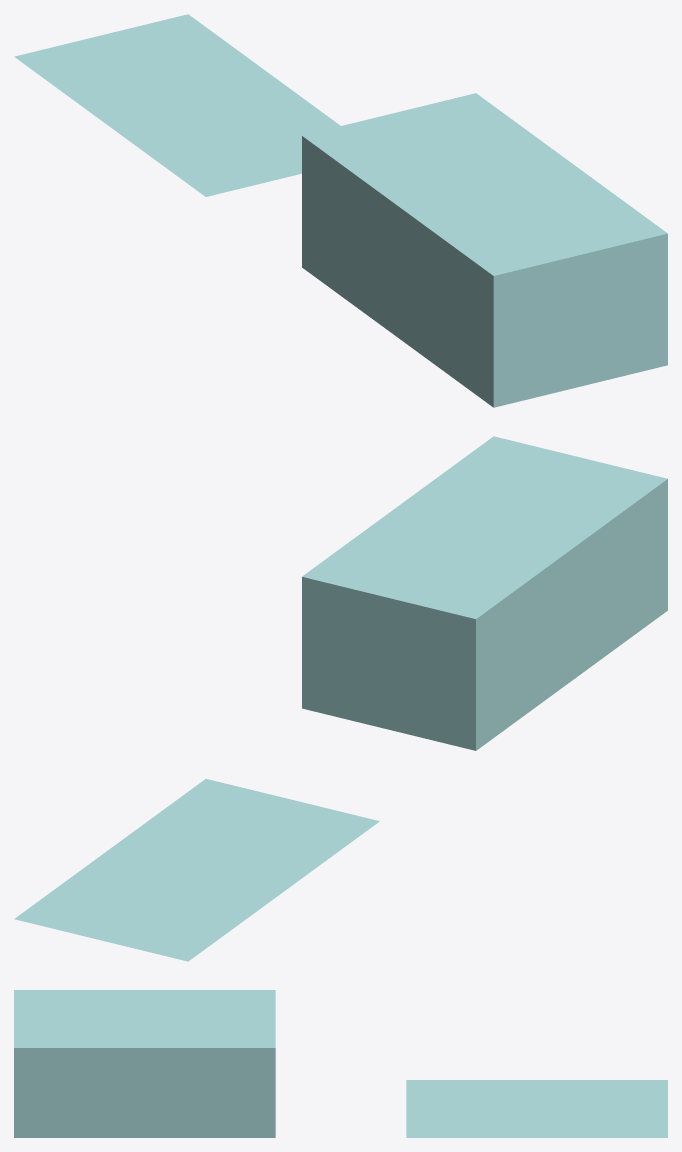
Rendered from Center_Inner_Channel_01.fbx.
3 views of the same model, one above another, from view 1: azimuth 30°, elevation 25°; view 2: azimuth 150°, elevation 25°; view 3: azimuth 270°, elevation 25° (orthographic). The views are drawn at different scales.
Visible parts, largest first — view 1: Center_Inner_Channel_01, Center_Ring_Inner_Floor_01; view 2: Center_Inner_Channel_01, Center_Ring_Inner_Floor_01; view 3: Center_Inner_Channel_01, Center_Ring_Inner_Floor_01.
Part boxes in pixels (left/top/right/bottom): Center_Inner_Channel_01: left=302, top=93, right=667, bottom=407; Center_Ring_Inner_Floor_01: left=14, top=14, right=340, bottom=196; Center_Inner_Channel_01: left=302, top=436, right=667, bottom=750; Center_Ring_Inner_Floor_01: left=14, top=779, right=379, bottom=961; Center_Inner_Channel_01: left=14, top=990, right=275, bottom=1137; Center_Ring_Inner_Floor_01: left=406, top=1080, right=667, bottom=1137.
Size of the model in its own units: 12.3 by 8.89 by 58.67.
